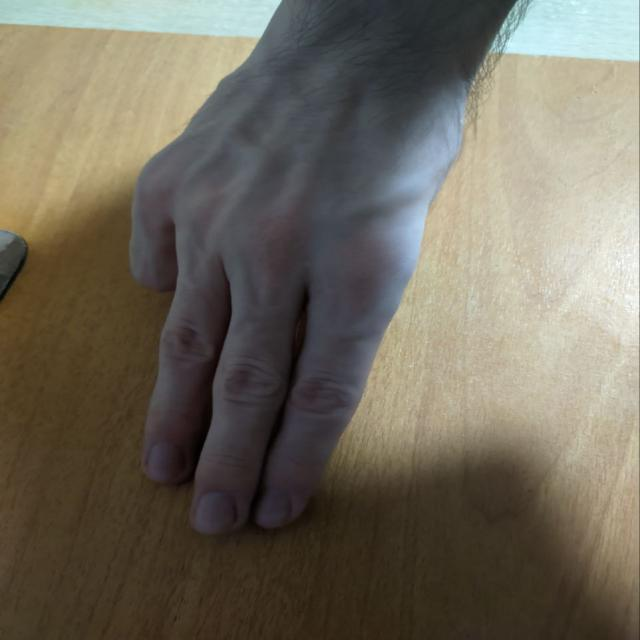t: (78, 38, 428, 550)
